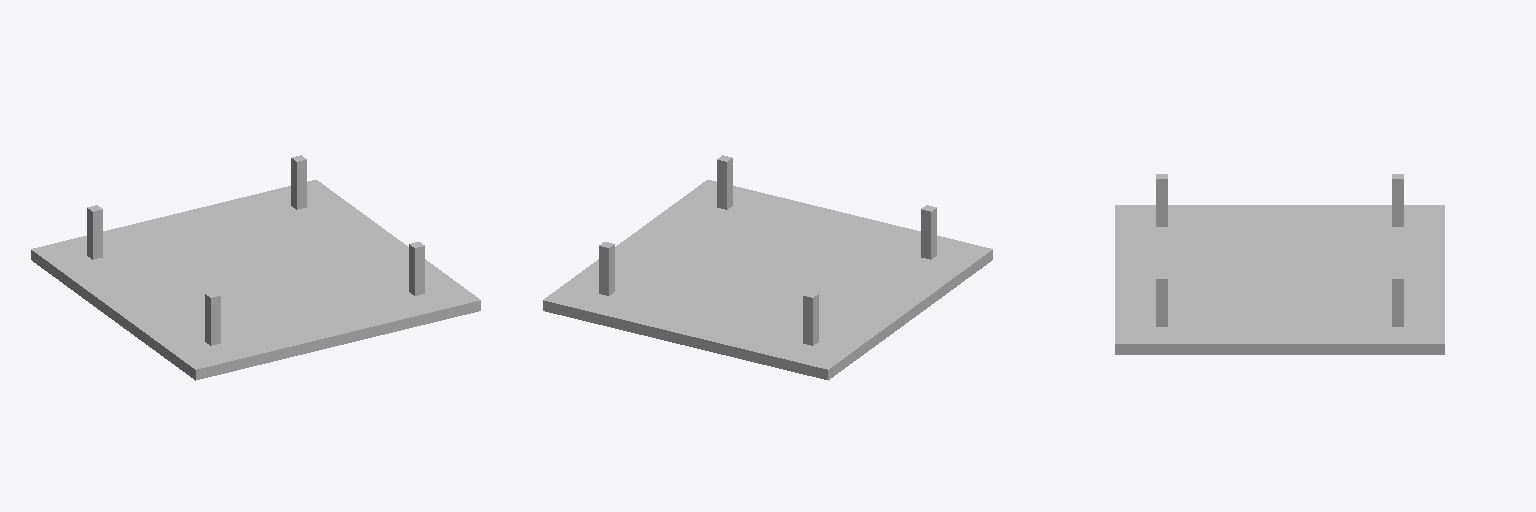
File: table33.obj
The picture shows the model from 3 angles: view 1: azimuth 30°, elevation 25°; view 2: azimuth 150°, elevation 25°; view 3: azimuth 270°, elevation 25°; orthographic projection.
Visible parts, largest first — view 1: Cube; view 2: Cube; view 3: Cube.
Boxes of the visible parts, box(x1,y1,x2,y2) form: Cube: box(31, 155, 480, 380); Cube: box(543, 155, 992, 380); Cube: box(1115, 174, 1444, 354).
Bounding box in the file's own units: 140 × 27.5 × 140.